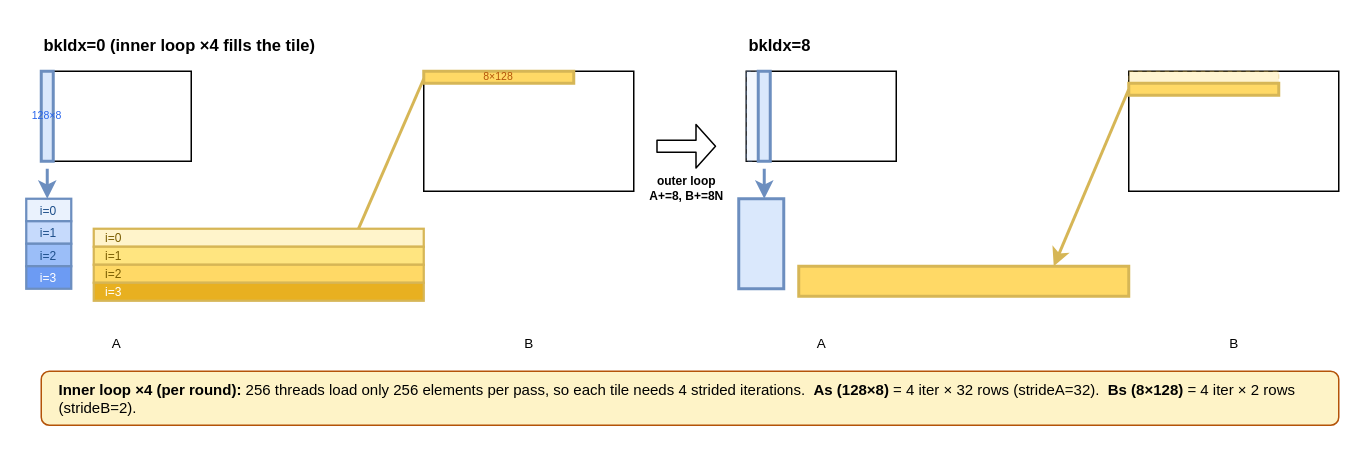
Image size: 1367x452. Some labels were removed from this diagram. Each missing label, with the centre of its shape:
As 128×8: pixel 760 243
Bs 8×128: pixel 963 280
